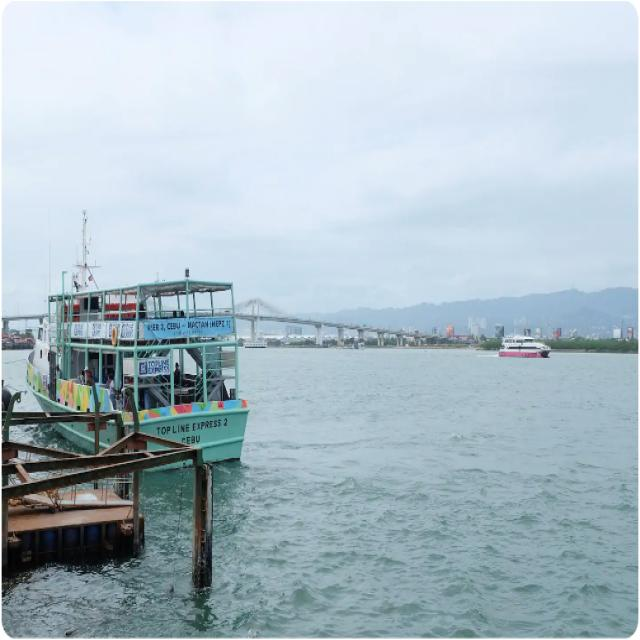passenger ship: (20, 280, 281, 481)
